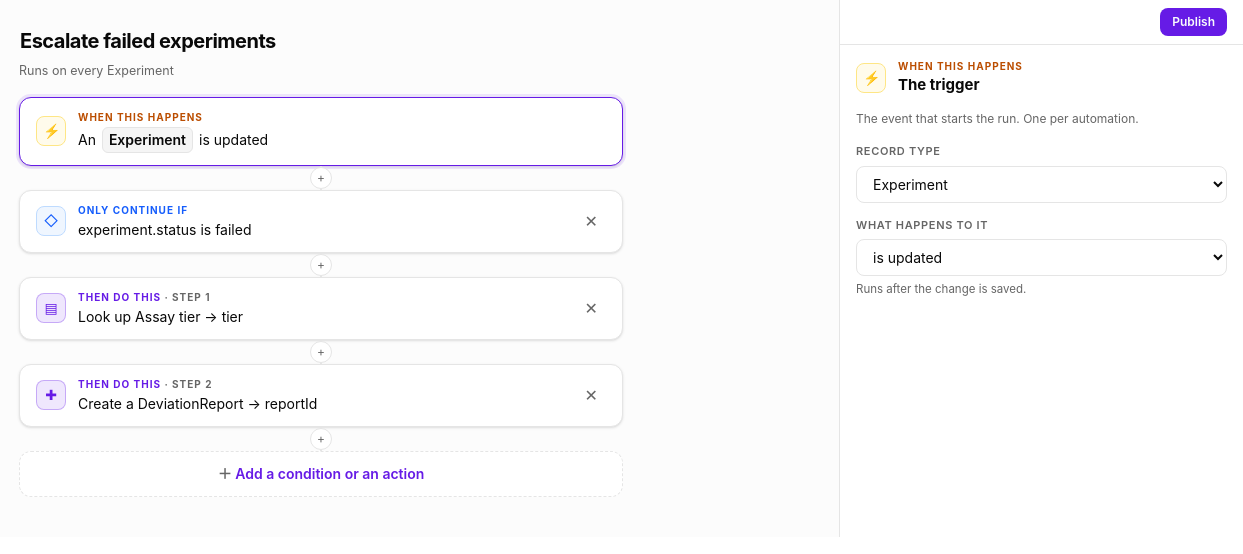
Test: AutomationBuilder › offers earlier steps' results to a later one, and never its own
Step 1. Click the text "Create a DeviationReport → reportId" → (198,404), box [78, 394, 317, 414]
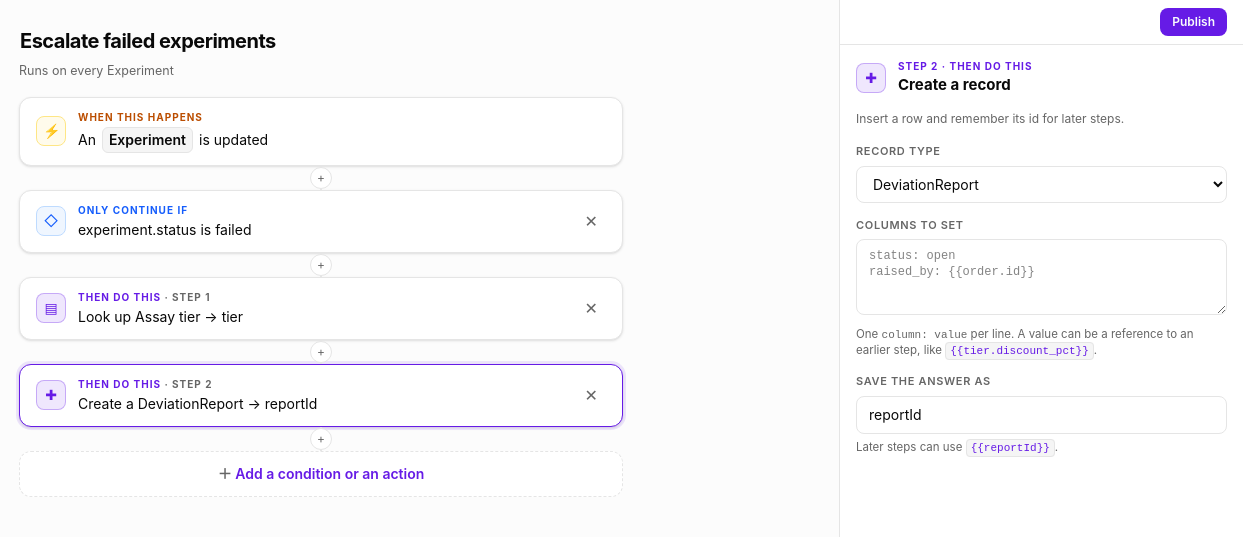
Expected: the text "{{reportId}}" is shown, [966, 439, 1055, 457]
